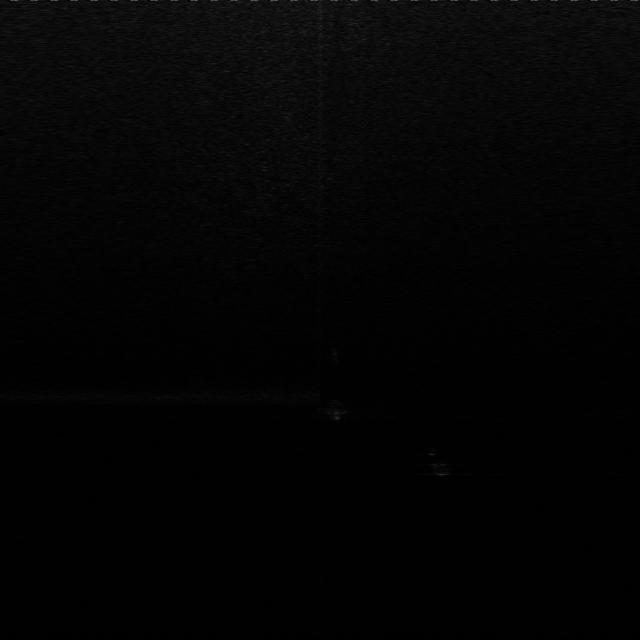circle cage: (322, 394, 352, 426)
